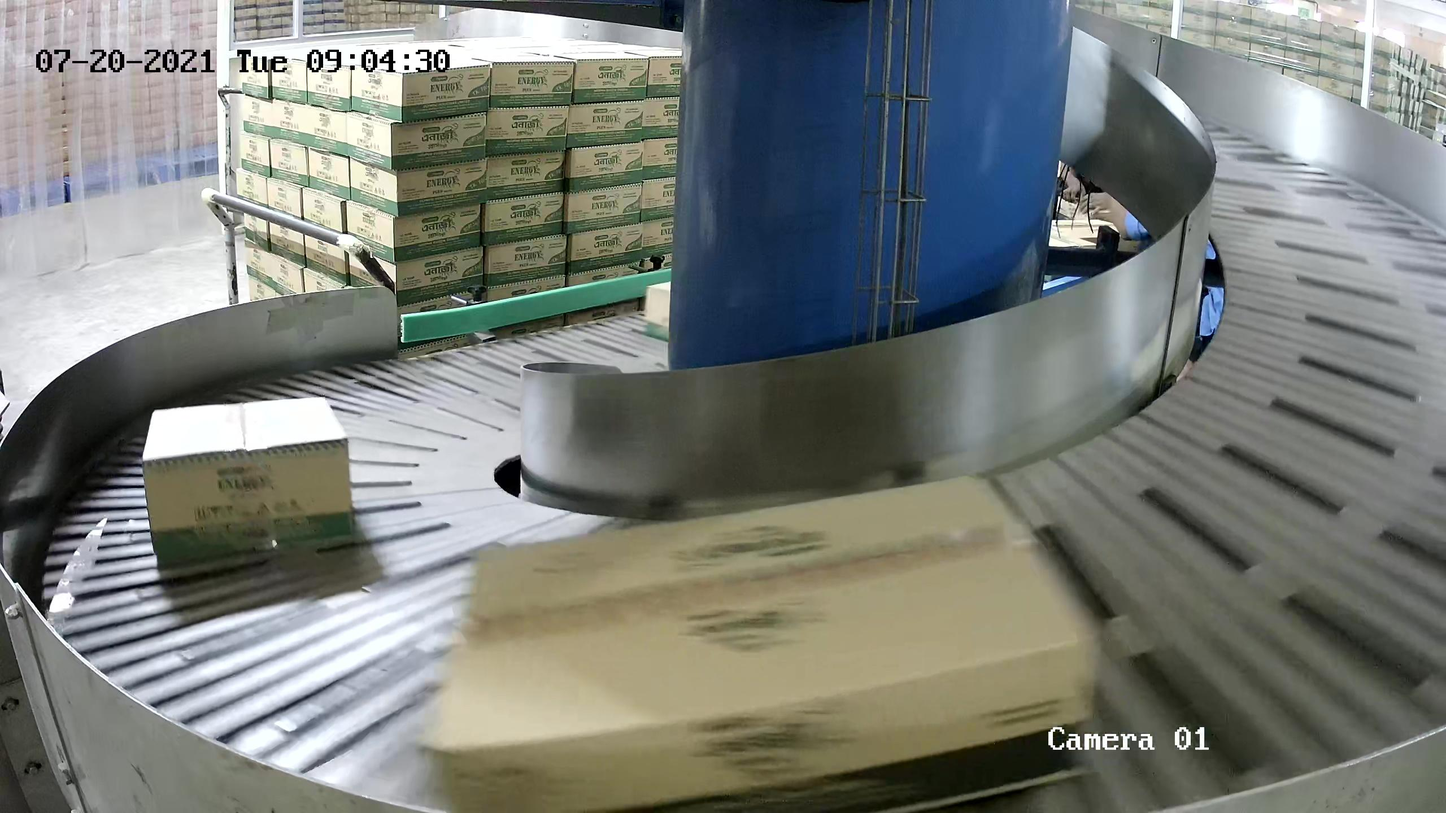Box: (409, 466, 1099, 813), (141, 394, 355, 556), (644, 281, 671, 341)
